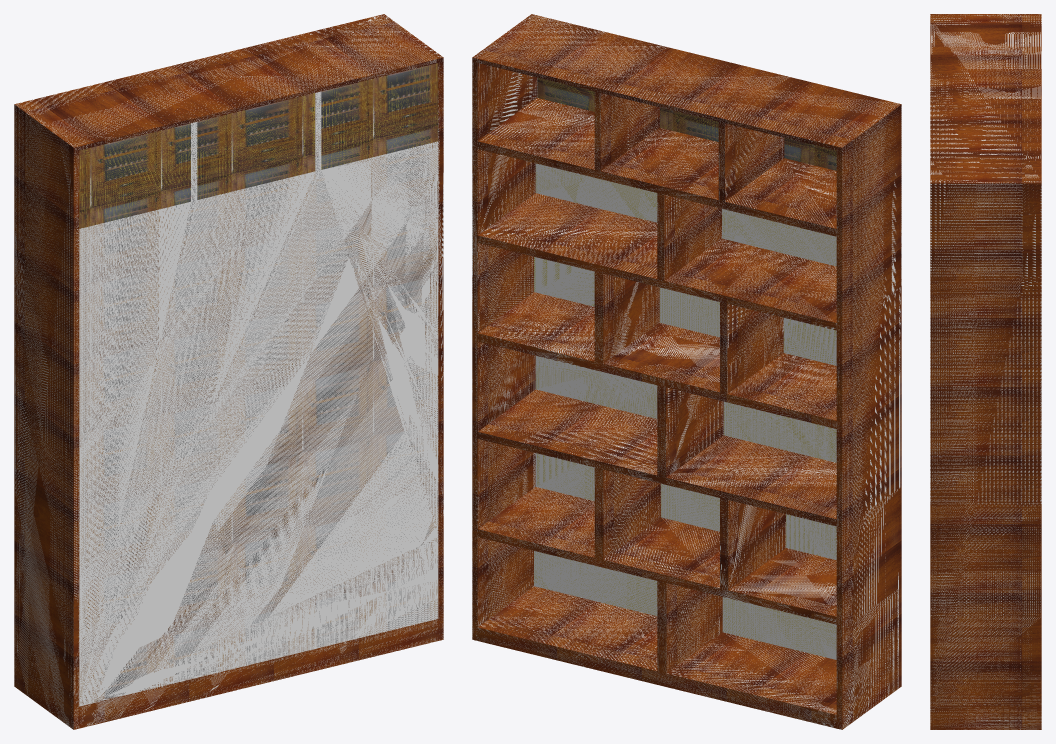
The picture shows the model from 3 angles, left to right: view 1: azimuth 30°, elevation 25°; view 2: azimuth 150°, elevation 25°; view 3: azimuth 270°, elevation 25°; orthographic projection. The views are drawn at different scales.
Visible parts, largest first — view 1: mesh1_mesh1-geometry; view 2: mesh1_mesh1-geometry; view 3: mesh1_mesh1-geometry.
Boxes of the visible parts, x1,y1,x2,y2 form: mesh1_mesh1-geometry: (14, 14, 443, 729); mesh1_mesh1-geometry: (472, 14, 901, 729); mesh1_mesh1-geometry: (930, 14, 1041, 729).
Size of the model in its own units: 0.5473 by 0.823 by 0.1523.
